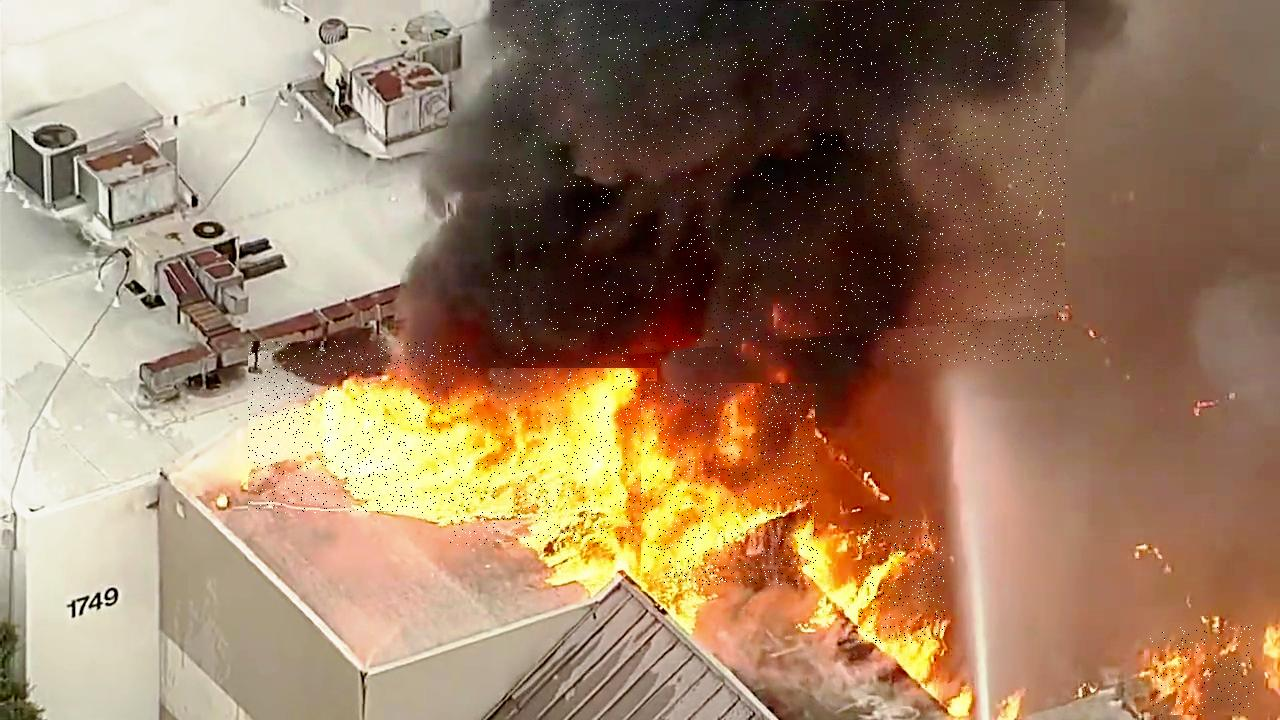fire: (249, 342, 470, 514), (447, 369, 657, 547), (642, 384, 819, 586), (858, 520, 945, 643), (1150, 625, 1254, 715)
smoke: (493, 1, 1068, 365)
